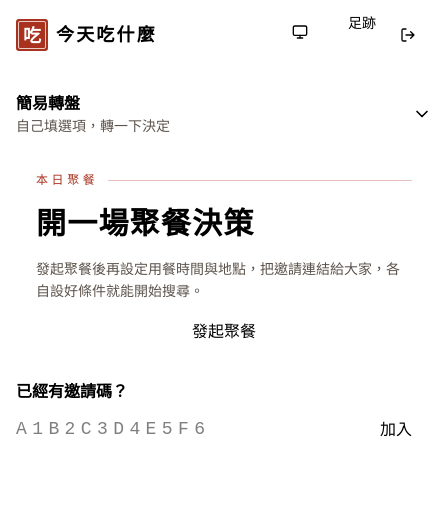
HomePage 錯誤就地顯示（QA ISSUE-003） › 建房錯誤渲染在建立房間的卡片內，不在頁尾
Step 1. Click the button "發起聚餐" → [224, 331], box [36, 319, 412, 343]
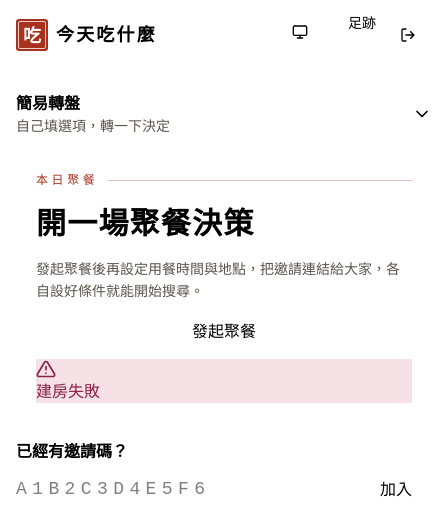
Expected: the heading "已經有邀請碼？" does not show "建房失敗"
Result: the message reads "建房失敗" at [36, 380, 100, 402]
Result: the number of messages is 1 at [36, 359, 412, 403]
